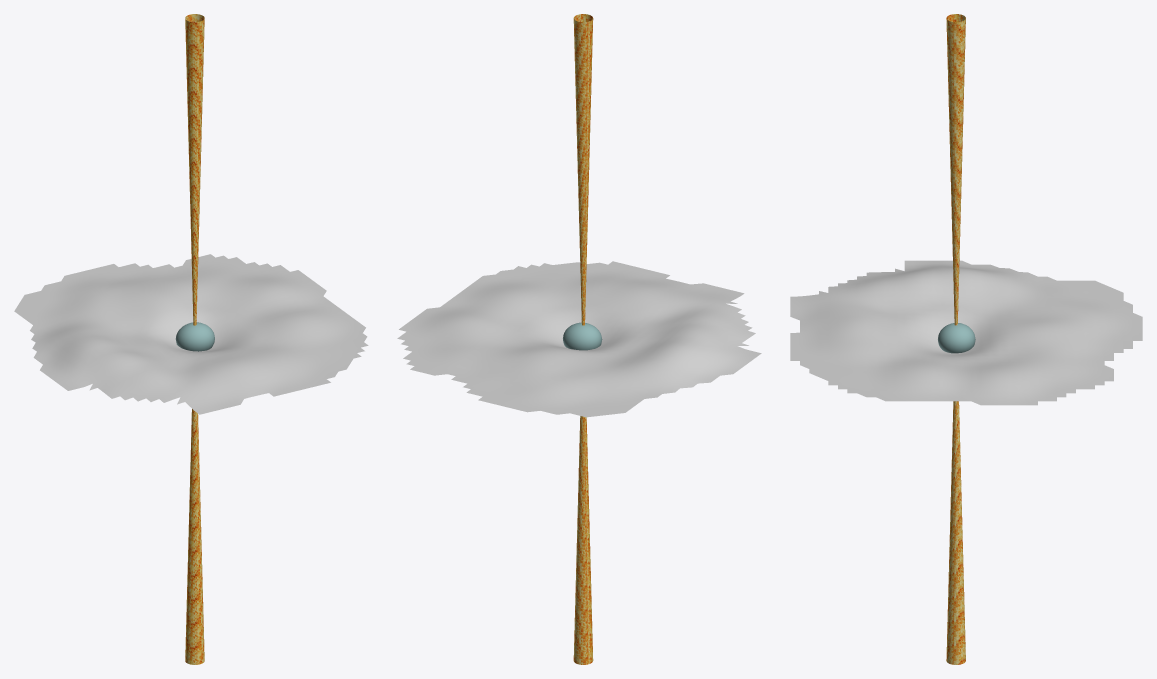
Rendered from explosion.dae.
3 renders of one model, left to right at view 1: azimuth 30°, elevation 25°; view 2: azimuth 150°, elevation 25°; view 3: azimuth 270°, elevation 25°, orthographic.
Parts seen in each view (by area): view 1: instance_1, instance_0 (×2); view 2: instance_1, instance_0 (×2); view 3: instance_1, instance_0 (×2).
Part boxes in pixels (x1,y1,x2,y2): instance_1: (14,254,368,414); instance_0 (×2): (175,14,214,664); instance_1: (397,261,761,417); instance_0 (×2): (563,14,602,664); instance_1: (790,260,1142,405); instance_0 (×2): (938,14,975,664).
Size of the model in its own units: 6679 by 6865 by 13819.
